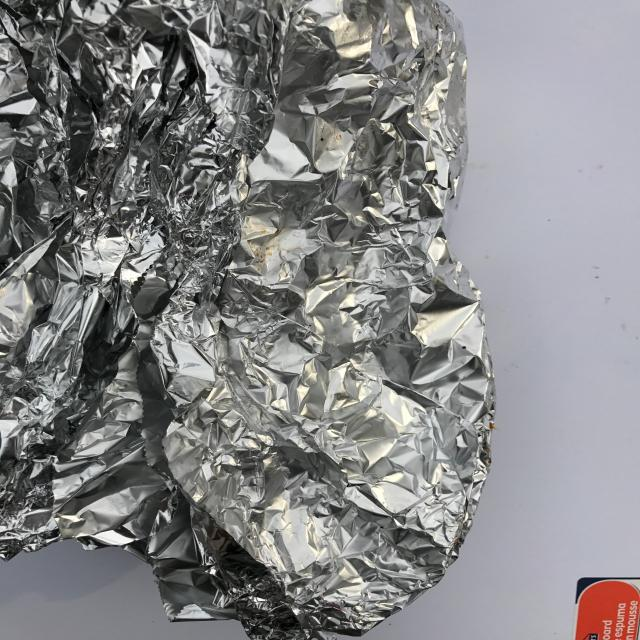metal: (1, 0, 498, 639)
